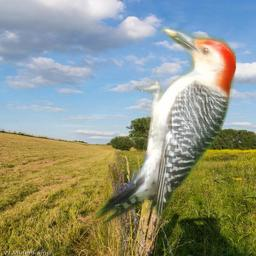Woodpecker: (88, 20, 236, 234)
